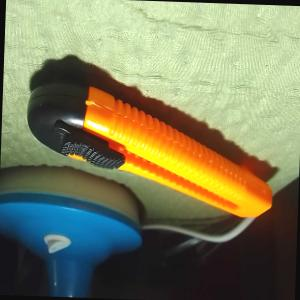estilete: (22, 79, 275, 219)
